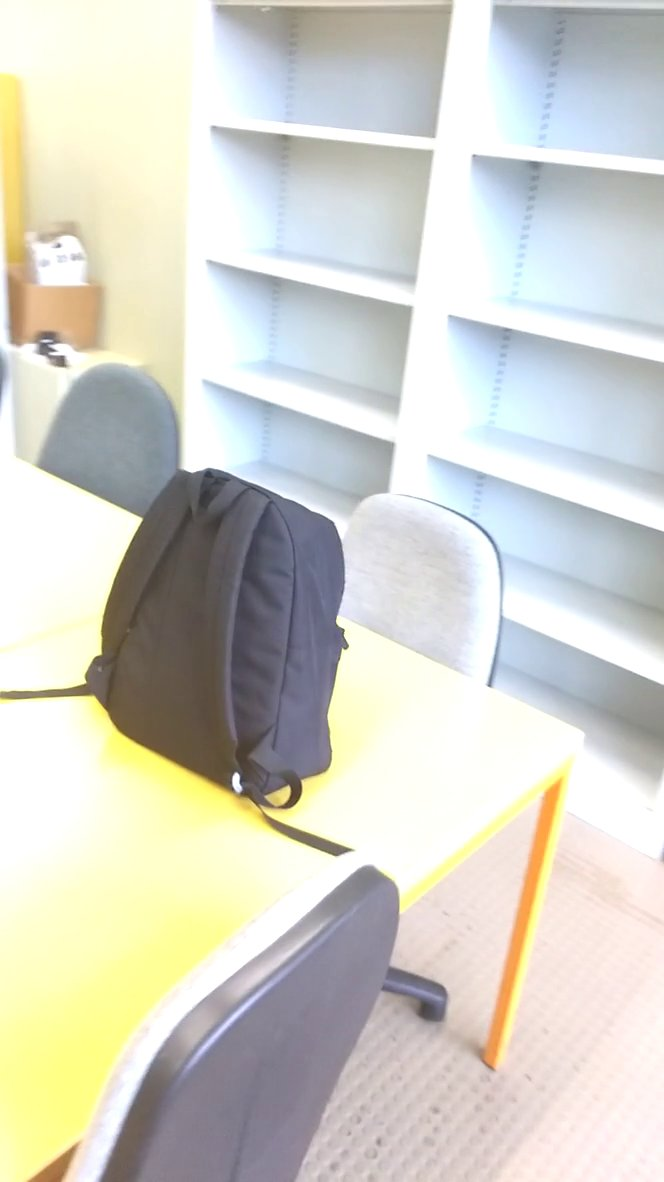bag: (84, 447, 351, 820)
chair: (48, 844, 417, 1182), (334, 479, 527, 708), (30, 351, 203, 559)
